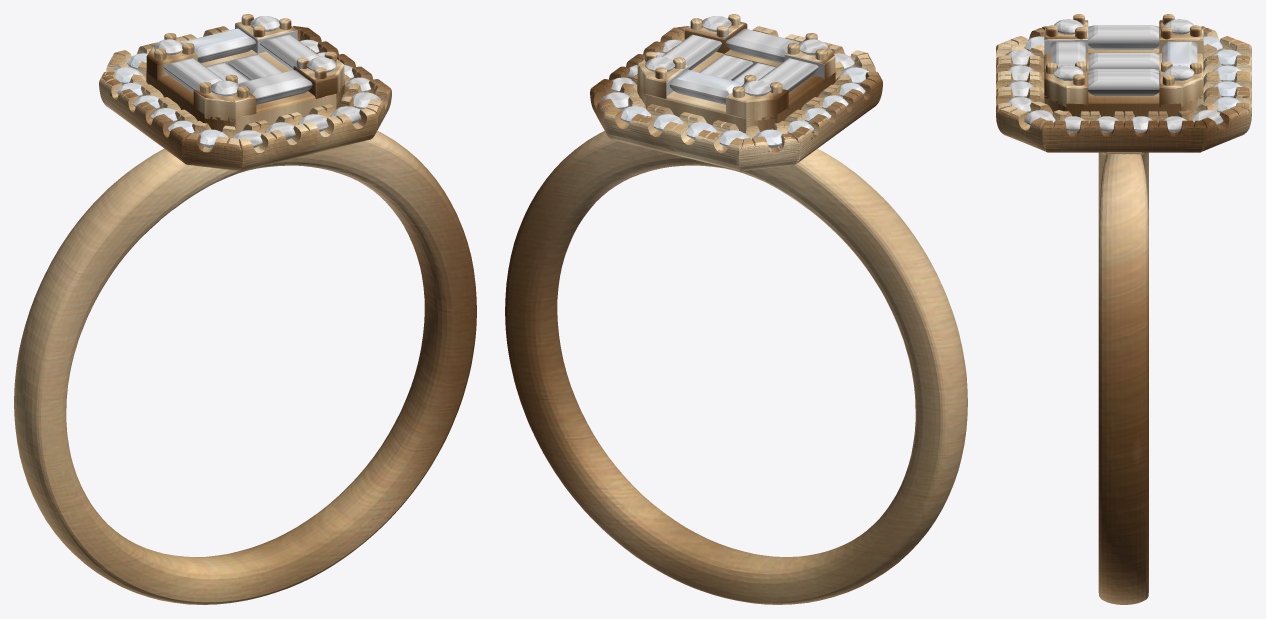
The model's file is C16.0143 Edited 6.glb.
3 views of the same model, side by side, from view 1: azimuth 30°, elevation 25°; view 2: azimuth 150°, elevation 25°; view 3: azimuth 270°, elevation 25° (orthographic).
Size of the model in its own units: 0.0546 by 0.063 by 0.0273.
3 materials, 3 textured.
